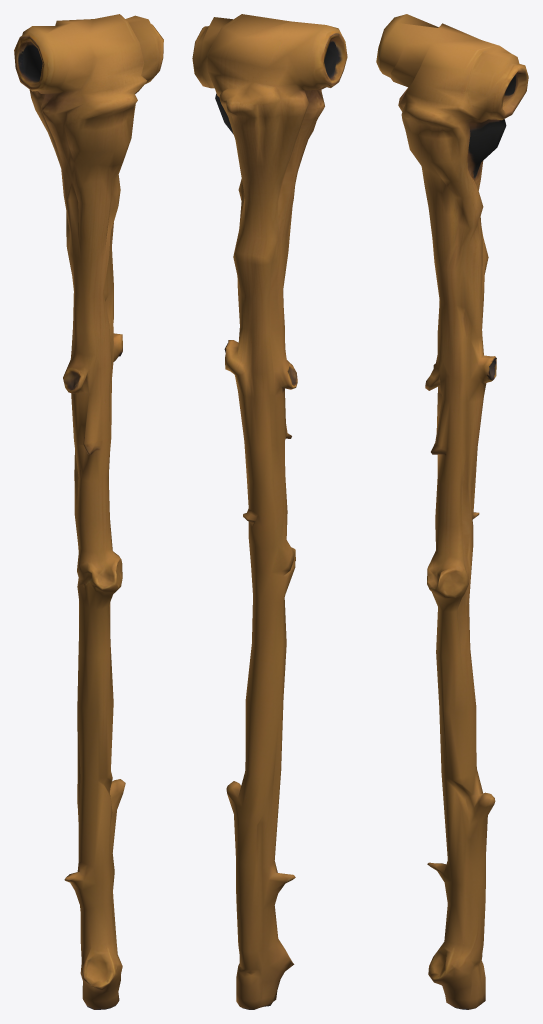
The model's file is kindling_rod.glb.
3 views of the same model, side by side, from view 1: azimuth 30°, elevation 25°; view 2: azimuth 150°, elevation 25°; view 3: azimuth 330°, elevation 25° (orthographic).
Parts seen in each view (by area): view 1: base_model_path; view 2: base_model_path; view 3: base_model_path.
Part boxes in pixels (bbox=[...]): base_model_path: bbox=[14, 14, 163, 1009]; base_model_path: bbox=[192, 14, 347, 1009]; base_model_path: bbox=[376, 14, 528, 1009].
Size of the model in its own units: 0.1271 by 0.9109 by 0.1075.
1 material, 1 textured.
